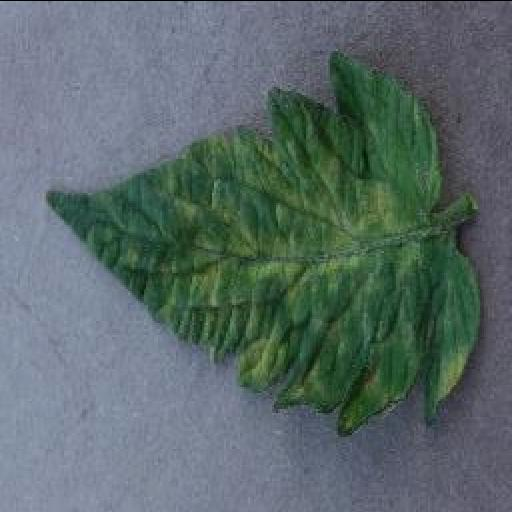disease_tomato: (42, 45, 474, 433)
